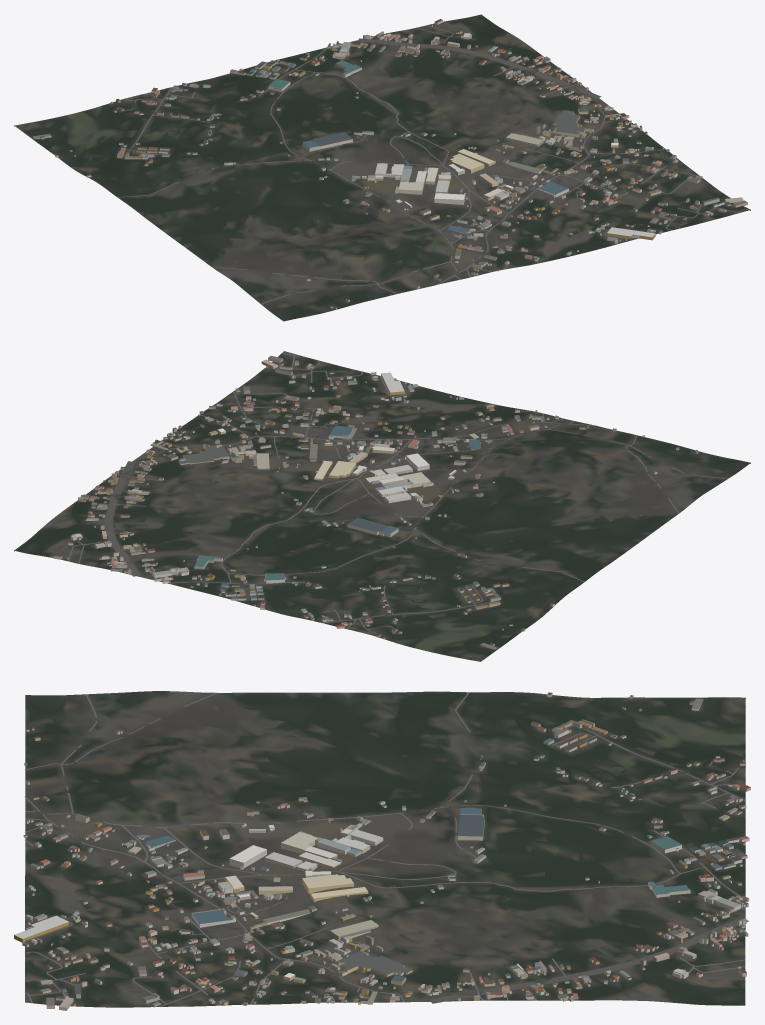
3 views of the same model, one above another, from view 1: azimuth 30°, elevation 25°; view 2: azimuth 150°, elevation 25°; view 3: azimuth 270°, elevation 25° (orthographic). The views are drawn at different scales.
Parts seen in each view (by area): view 1: ground, buildings, roads; view 2: ground, buildings, roads; view 3: ground, buildings, roads.
Part boxes in pixels (box(x1,y1,x2,y2)): ground: box(14, 14, 750, 321); buildings: box(32, 19, 747, 309); roads: box(118, 25, 748, 304); ground: box(14, 351, 750, 661); buildings: box(53, 356, 698, 649); roads: box(68, 353, 728, 633); ground: box(25, 691, 745, 1007); buildings: box(14, 692, 750, 1010); roads: box(24, 692, 748, 1006).
Bounding box in the file's own units: 1424 × 50.2 × 1434.
